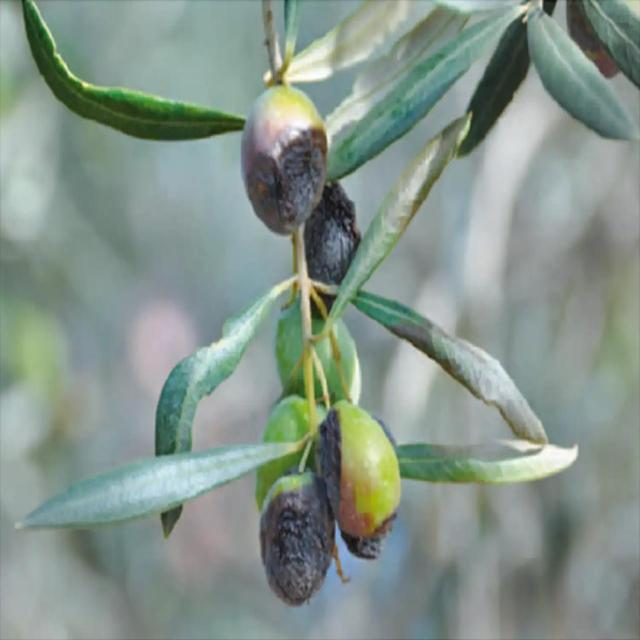Olive Fruit Fly: (315, 401, 400, 560), (241, 84, 328, 235), (260, 471, 336, 607)
